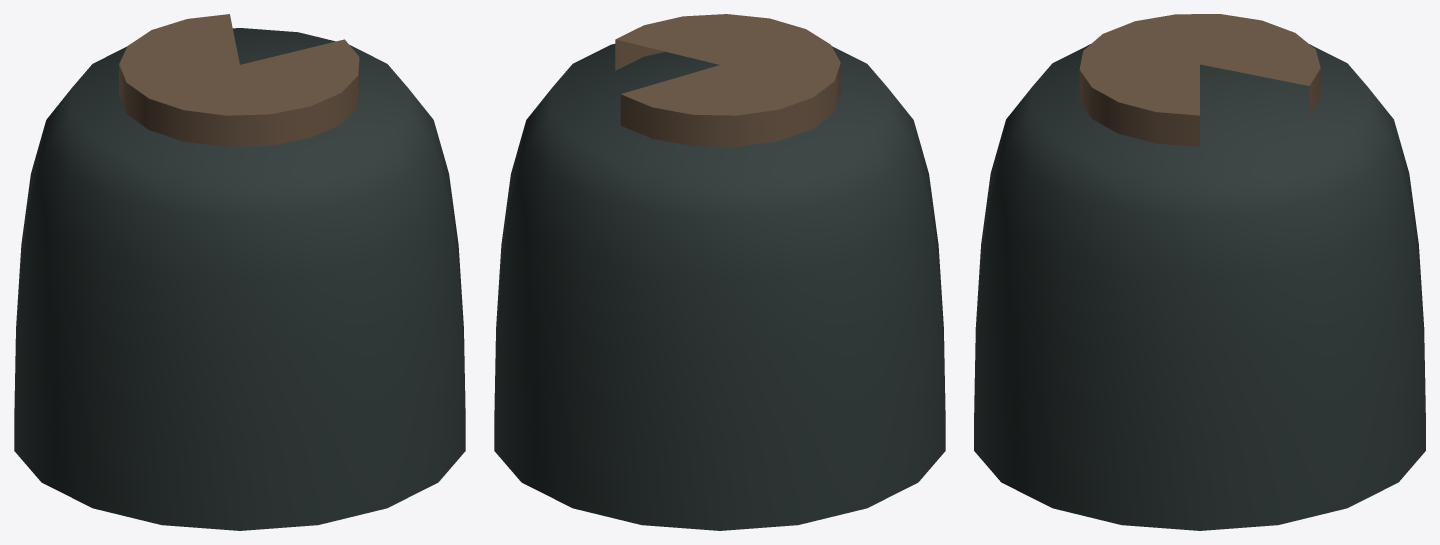
The model's file is mage_robe.obj.
3 renders of one model, left to right at view 1: azimuth 30°, elevation 25°; view 2: azimuth 150°, elevation 25°; view 3: azimuth 270°, elevation 25°, orthographic.
Parts seen in each view (by area): view 1: mage_robe; view 2: mage_robe; view 3: mage_robe.
Boxes of the visible parts, x1,y1,x2,y2 form: mage_robe: (14,14,465,530); mage_robe: (494,14,945,530); mage_robe: (974,14,1425,530).
Bounding box in the file's own units: 1.44 × 1.28 × 1.42.
